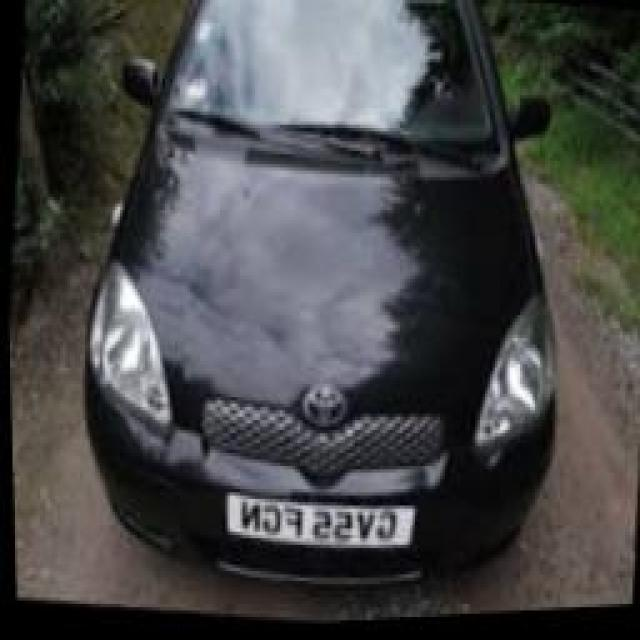Bonnet: (140, 141, 488, 410)
